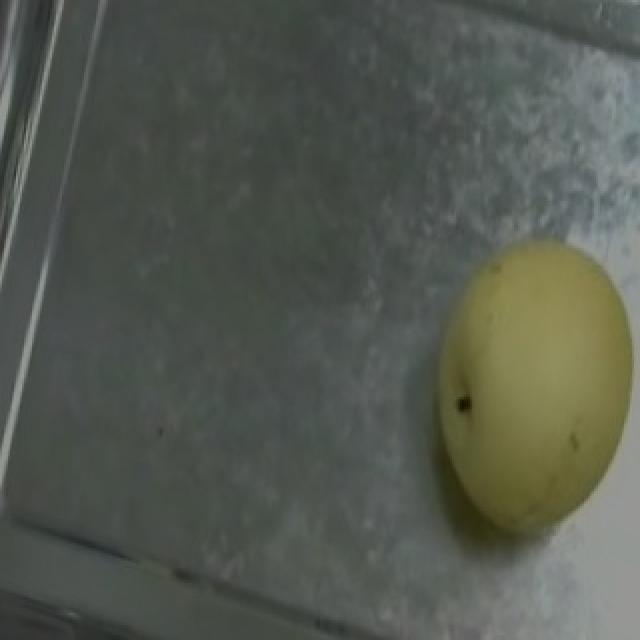Fruit: (384, 204, 640, 560)
